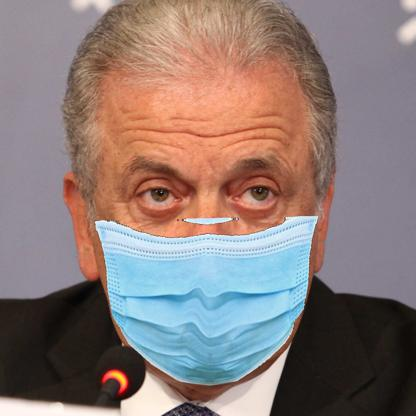mask: (95, 219, 315, 387)
